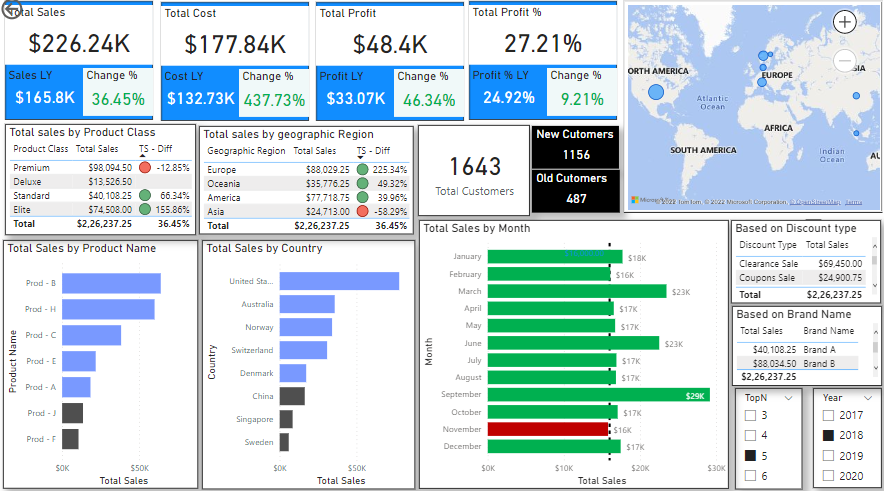

This screenshot's page, from the dashboard's own definition file:
{"tool":"powerbi","page":{"name":"Sales Overview","canvas":[1280,720],"ordinal":0},"visuals":[{"type":"shape","box":[10.1,8.6,213.1,171.4],"z":0,"group":"g1"},{"type":"shape","box":[678.2,8.6,213.1,171.4],"z":0,"group":"g4"},{"type":"shape","box":[234.7,10.1,213.1,171.4],"z":0,"group":"g2"},{"type":"shape","box":[457.9,10.1,213.1,171.4],"z":0,"group":"g3"},{"type":"slicer","fields":{"Values":["Calender.Year"]},"box":[1173.6,565.9,99.4,144],"z":0},{"type":"group","id":"g1","title":"Group 1","box":[10.1,8.6,213.1,171.4],"z":1000},{"type":"card","title":"Total Sales","fields":{"Values":["All Measures.Total Sales"]},"box":[10.1,14.4,213.1,86.4],"z":1000,"group":"g1"},{"type":"card","title":"Total Profit %","fields":{"Values":["All Measures.Total Profit %"]},"box":[678.2,14.4,213.1,86.4],"z":1000,"group":"g4"},{"type":"card","title":"Total Cost","fields":{"Values":["All Measures.Total Cost"]},"box":[234.7,15.9,213.1,86.4],"z":1000,"group":"g2"},{"type":"card","title":"Total Profit","fields":{"Values":["All Measures.Total Profit"]},"box":[457.9,15.9,213.1,86.4],"z":1000,"group":"g3"},{"type":"group","id":"g2","title":"Group 1","box":[234.7,10.1,213.1,171.4],"z":2000},{"type":"card","title":"Sales LY","fields":{"Values":["All Measures.Sales LY"]},"box":[10.1,105.3,115.2,64.4],"z":2000,"group":"g1"},{"type":"card","title":"Profit % LY","fields":{"Values":["All Measures.Profit % LY"]},"box":[678.2,105.3,115.2,64.4],"z":2000,"group":"g4"},{"type":"card","title":"Cost LY","fields":{"Values":["All Measures.Cost LY"]},"box":[234.7,106.8,115.2,64.4],"z":2000,"group":"g2"},{"type":"card","title":"Profit LY","fields":{"Values":["All Measures.Profit LY"]},"box":[457.9,106.8,115.2,64.4],"z":2000,"group":"g3"},{"type":"group","id":"g3","title":"Group 1","box":[457.9,10.1,213.1,171.4],"z":3000},{"type":"card","title":"Change %","fields":{"Values":["All Measures.TS - Diff"]},"box":[122.4,105.3,100.8,68.8],"z":3000,"group":"g1"},{"type":"card","title":"Change %","fields":{"Values":["All Measures.TP % - Diff"]},"box":[790.5,105.3,100.8,68.8],"z":3000,"group":"g4"},{"type":"card","title":"Change %","fields":{"Values":["All Measures.TC - Diff"]},"box":[347,106.8,100.8,68.8],"z":3000,"group":"g2"},{"type":"card","title":"Change %","fields":{"Values":["All Measures.TP - Diff"]},"box":[570.2,106.8,100.8,68.8],"z":3000,"group":"g3"},{"type":"group","id":"g4","title":"Group 1","box":[678.2,8.6,213.1,171.4],"z":4000},{"type":"slicer","fields":{"Values":["TopN.TopN"]},"box":[1061.6,566.1,97.4,146.1],"z":5000},{"type":"barChart","fields":{"Category":["Products Details.Product Name"],"Y":["All Measures.Total Sales"]},"box":[6.7,352.8,280.5,357.8],"z":6000},{"type":"actionButton","box":[0,0,100,40],"z":7000},{"type":"barChart","fields":{"Y":["All Measures.Total Sales"],"Category":["Location Details.Country"]},"box":[294,352.8,307.4,359.5],"z":8000},{"type":"tableEx","title":"Total sales by Product Class","fields":{"Values":["Products Details.Product Class","All Measures.Total Sales","All Measures.TS - Diff"]},"box":[10.1,186.5,275.5,159.6],"z":9000},{"type":"tableEx","title":"Total sales by geographic Region","fields":{"Values":["Location Details.Geographic Region","All Measures.Total Sales","All Measures.TS - Diff"]},"box":[288.9,188.1,309.1,156.2],"z":10000},{"type":"card","fields":{"Values":["All Measures.Total Customers"]},"box":[604.9,186.9,160.7,131.1],"z":11000},{"type":"card","title":"New Cutomers","fields":{"Values":["All Measures.New Customers"]},"box":[768.9,188.5,124.6,60.7],"z":12000},{"type":"card","title":"Old Cutomers","fields":{"Values":["All Measures.Old Customers"]},"box":[768.9,252.5,126.2,60.7],"z":13000},{"type":"map","fields":{"Category":["Location Details.Country"],"Size":["All Measures.Total Profit"]},"box":[901.6,8.2,372.1,304.9],"z":14000},{"type":"barChart","fields":{"Y":["All Measures.Total Sales"],"Category":["Calender.Month"]},"box":[606.6,324.6,445.9,386.9],"z":15000},{"type":"tableEx","title":"Based on Discount type","fields":{"Values":["Discount Details.Discount Type","All Measures.Total Sales"]},"box":[1055.7,324.6,216.4,119.7],"z":16000},{"type":"tableEx","title":"Based on Brand Name","fields":{"Values":["All Measures.Total Sales","Products Details.Brand Name"]},"box":[1057.4,447.5,216.4,114.8],"z":17000}]}

Visuals, with their boxes in screenshot pixels (x1, y1, x2, y2), scaled from the page's 1280x720 canvas onto the 884x491 screenshot:
shape: (x1=7, y1=6, x2=154, y2=123)
shape: (x1=468, y1=6, x2=616, y2=123)
shape: (x1=162, y1=7, x2=309, y2=124)
shape: (x1=316, y1=7, x2=463, y2=124)
slicer - Calender.Year: (x1=811, y1=386, x2=879, y2=484)
"Group 1" group: (x1=7, y1=6, x2=154, y2=123)
"Total Sales" card: (x1=7, y1=10, x2=154, y2=69)
"Total Profit %" card: (x1=468, y1=10, x2=616, y2=69)
"Total Cost" card: (x1=162, y1=11, x2=309, y2=70)
"Total Profit" card: (x1=316, y1=11, x2=463, y2=70)
"Group 1" group: (x1=162, y1=7, x2=309, y2=124)
"Sales LY" card: (x1=7, y1=72, x2=87, y2=116)
"Profit % LY" card: (x1=468, y1=72, x2=548, y2=116)
"Cost LY" card: (x1=162, y1=73, x2=242, y2=117)
"Profit LY" card: (x1=316, y1=73, x2=396, y2=117)
"Group 1" group: (x1=316, y1=7, x2=463, y2=124)
"Change %" card: (x1=85, y1=72, x2=154, y2=119)
"Change %" card: (x1=546, y1=72, x2=616, y2=119)
"Change %" card: (x1=240, y1=73, x2=309, y2=120)
"Change %" card: (x1=394, y1=73, x2=463, y2=120)
"Group 1" group: (x1=468, y1=6, x2=616, y2=123)
slicer - TopN.TopN: (x1=733, y1=386, x2=800, y2=486)
barChart - Products Details.Product Name x All Measures.Total Sales: (x1=5, y1=241, x2=198, y2=485)
actionButton: (x1=0, y1=0, x2=69, y2=27)
barChart - All Measures.Total Sales x Location Details.Country: (x1=203, y1=241, x2=415, y2=486)
"Total sales by Product Class" tableEx: (x1=7, y1=127, x2=197, y2=236)
"Total sales by geographic Region" tableEx: (x1=200, y1=128, x2=413, y2=235)
card - All Measures.Total Customers: (x1=418, y1=127, x2=529, y2=217)
"New Cutomers" card: (x1=531, y1=129, x2=617, y2=170)
"Old Cutomers" card: (x1=531, y1=172, x2=618, y2=214)
map - Location Details.Country x All Measures.Total Profit: (x1=623, y1=6, x2=880, y2=214)
barChart - All Measures.Total Sales x Calender.Month: (x1=419, y1=221, x2=727, y2=485)
"Based on Discount type" tableEx: (x1=729, y1=221, x2=879, y2=303)
"Based on Brand Name" tableEx: (x1=730, y1=305, x2=880, y2=383)
